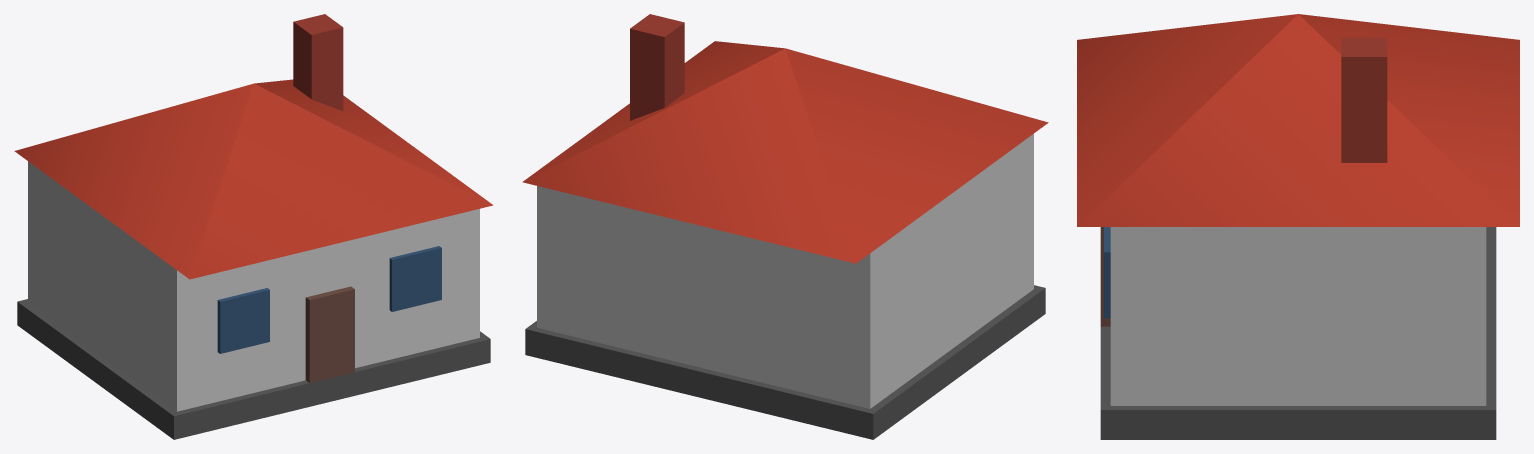
Rendered from house_01.glb.
3 renders of one model, left to right at view 1: azimuth 30°, elevation 25°; view 2: azimuth 150°, elevation 25°; view 3: azimuth 270°, elevation 25°, orthographic. The views are drawn at different scales.
Size of the model in its own units: 14 by 11.75 by 13.44.
